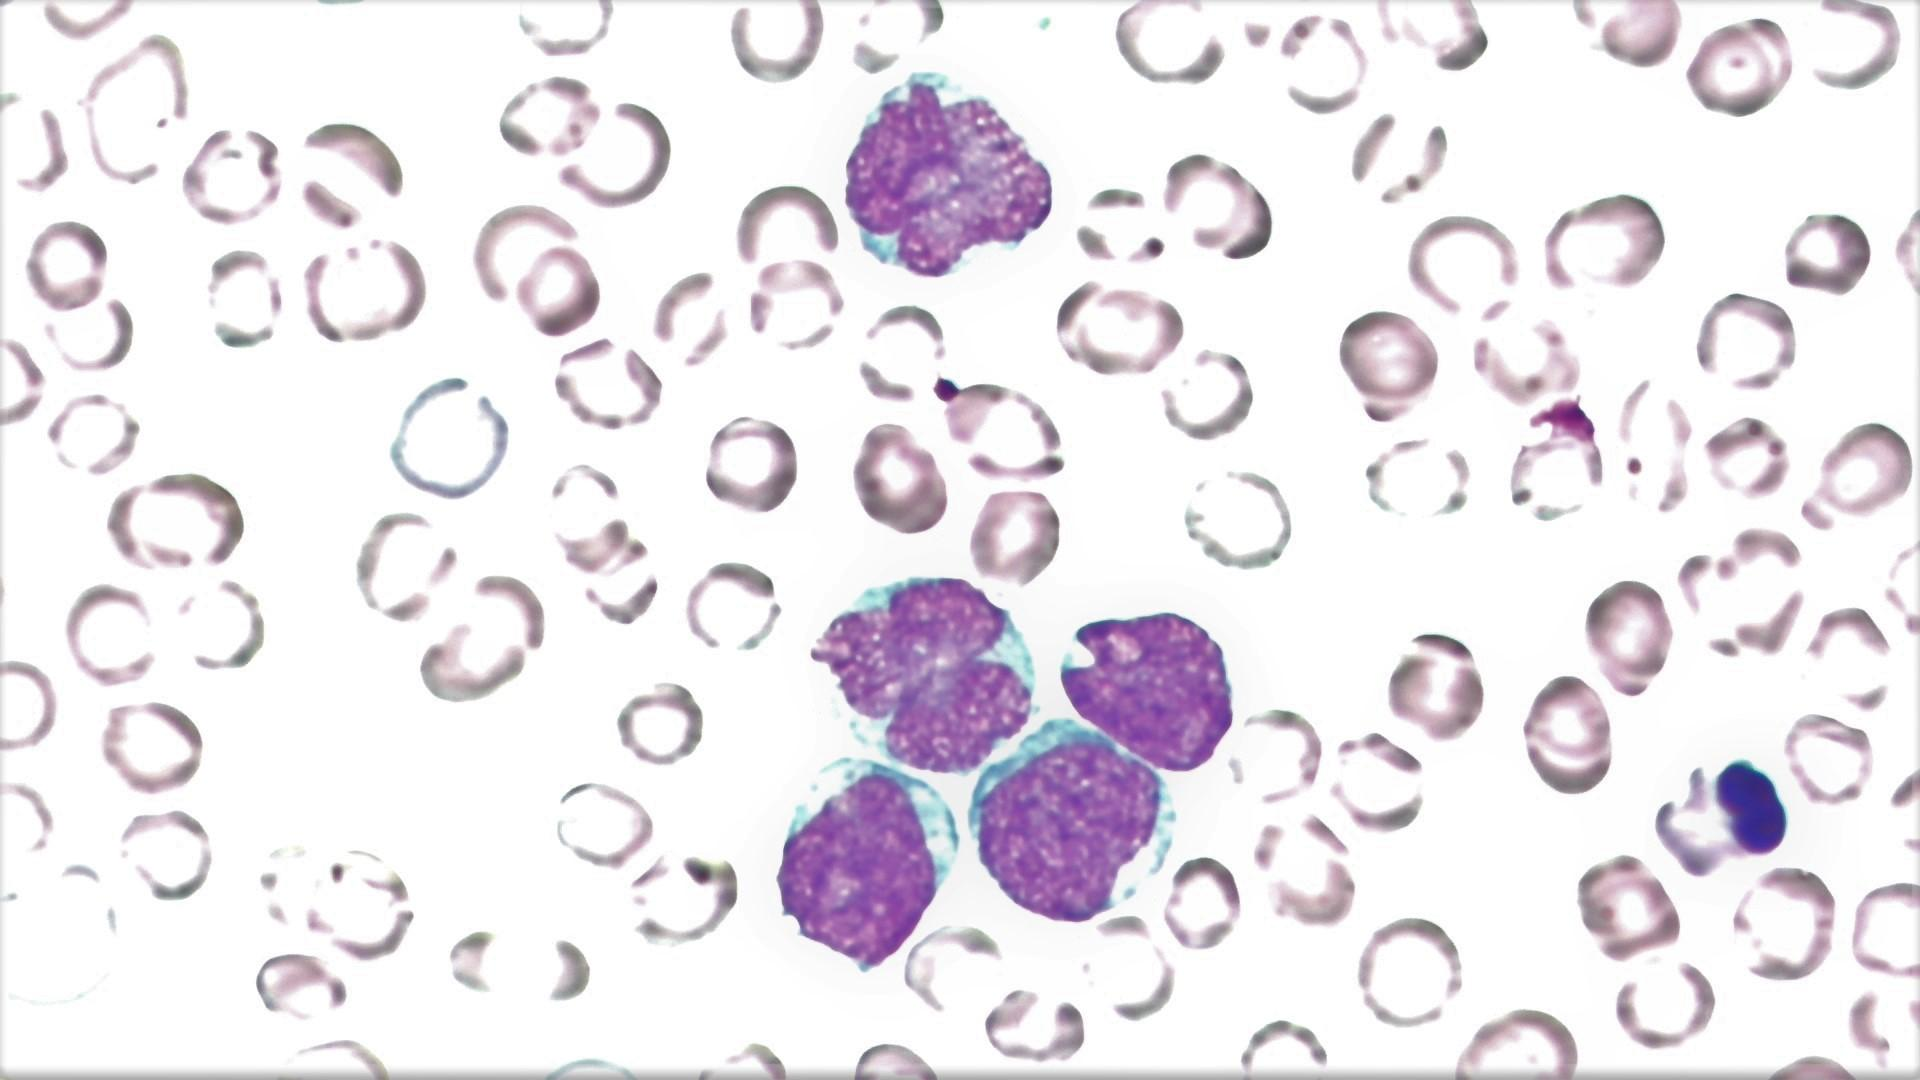RBC: (76, 29, 191, 193), (418, 566, 546, 707), (386, 373, 508, 501), (553, 95, 674, 214), (112, 469, 249, 572), (302, 233, 429, 344), (1730, 858, 1840, 986), (348, 504, 456, 630), (293, 115, 406, 233), (1352, 910, 1462, 1030), (938, 377, 1065, 480), (1158, 146, 1270, 261), (732, 178, 843, 294), (1058, 280, 1184, 381), (469, 199, 582, 313), (1182, 464, 1294, 578), (1402, 207, 1518, 316), (1542, 190, 1665, 291), (178, 123, 285, 232), (847, 419, 947, 535), (1575, 855, 1683, 961), (59, 578, 161, 691), (1084, 905, 1178, 1025), (1385, 633, 1486, 742), (698, 411, 800, 518), (1582, 574, 1676, 690), (1695, 287, 1796, 394), (1607, 953, 1716, 1054), (1156, 343, 1259, 447), (1680, 17, 1782, 123), (553, 335, 659, 434), (1276, 8, 1371, 119), (1108, 1, 1226, 90), (1228, 700, 1327, 806), (964, 483, 1062, 589), (98, 698, 206, 794), (1335, 307, 1443, 404), (1447, 1002, 1584, 1077), (1615, 375, 1691, 512), (116, 804, 214, 909), (1815, 415, 1912, 520), (647, 262, 738, 373), (492, 69, 600, 161), (1522, 671, 1611, 782), (748, 251, 843, 352), (1782, 709, 1875, 812), (546, 458, 634, 566), (683, 556, 782, 653), (978, 981, 1091, 1065), (1563, 0, 1689, 74), (556, 778, 655, 872), (1804, 597, 1894, 700), (1360, 433, 1472, 514), (22, 214, 109, 315), (1780, 208, 1874, 302), (725, 3, 828, 87), (1160, 851, 1244, 955), (46, 386, 137, 477), (516, 243, 603, 338), (1710, 756, 1791, 857), (1698, 411, 1788, 501), (611, 680, 702, 769), (249, 944, 345, 1027), (1846, 877, 1917, 982), (0, 326, 47, 440), (26, 1, 148, 42), (841, 1036, 949, 1079), (1890, 179, 1920, 330)
WBC: (799, 564, 1048, 779), (832, 61, 1065, 287), (967, 725, 1174, 930), (767, 754, 956, 976), (1054, 603, 1245, 775)
